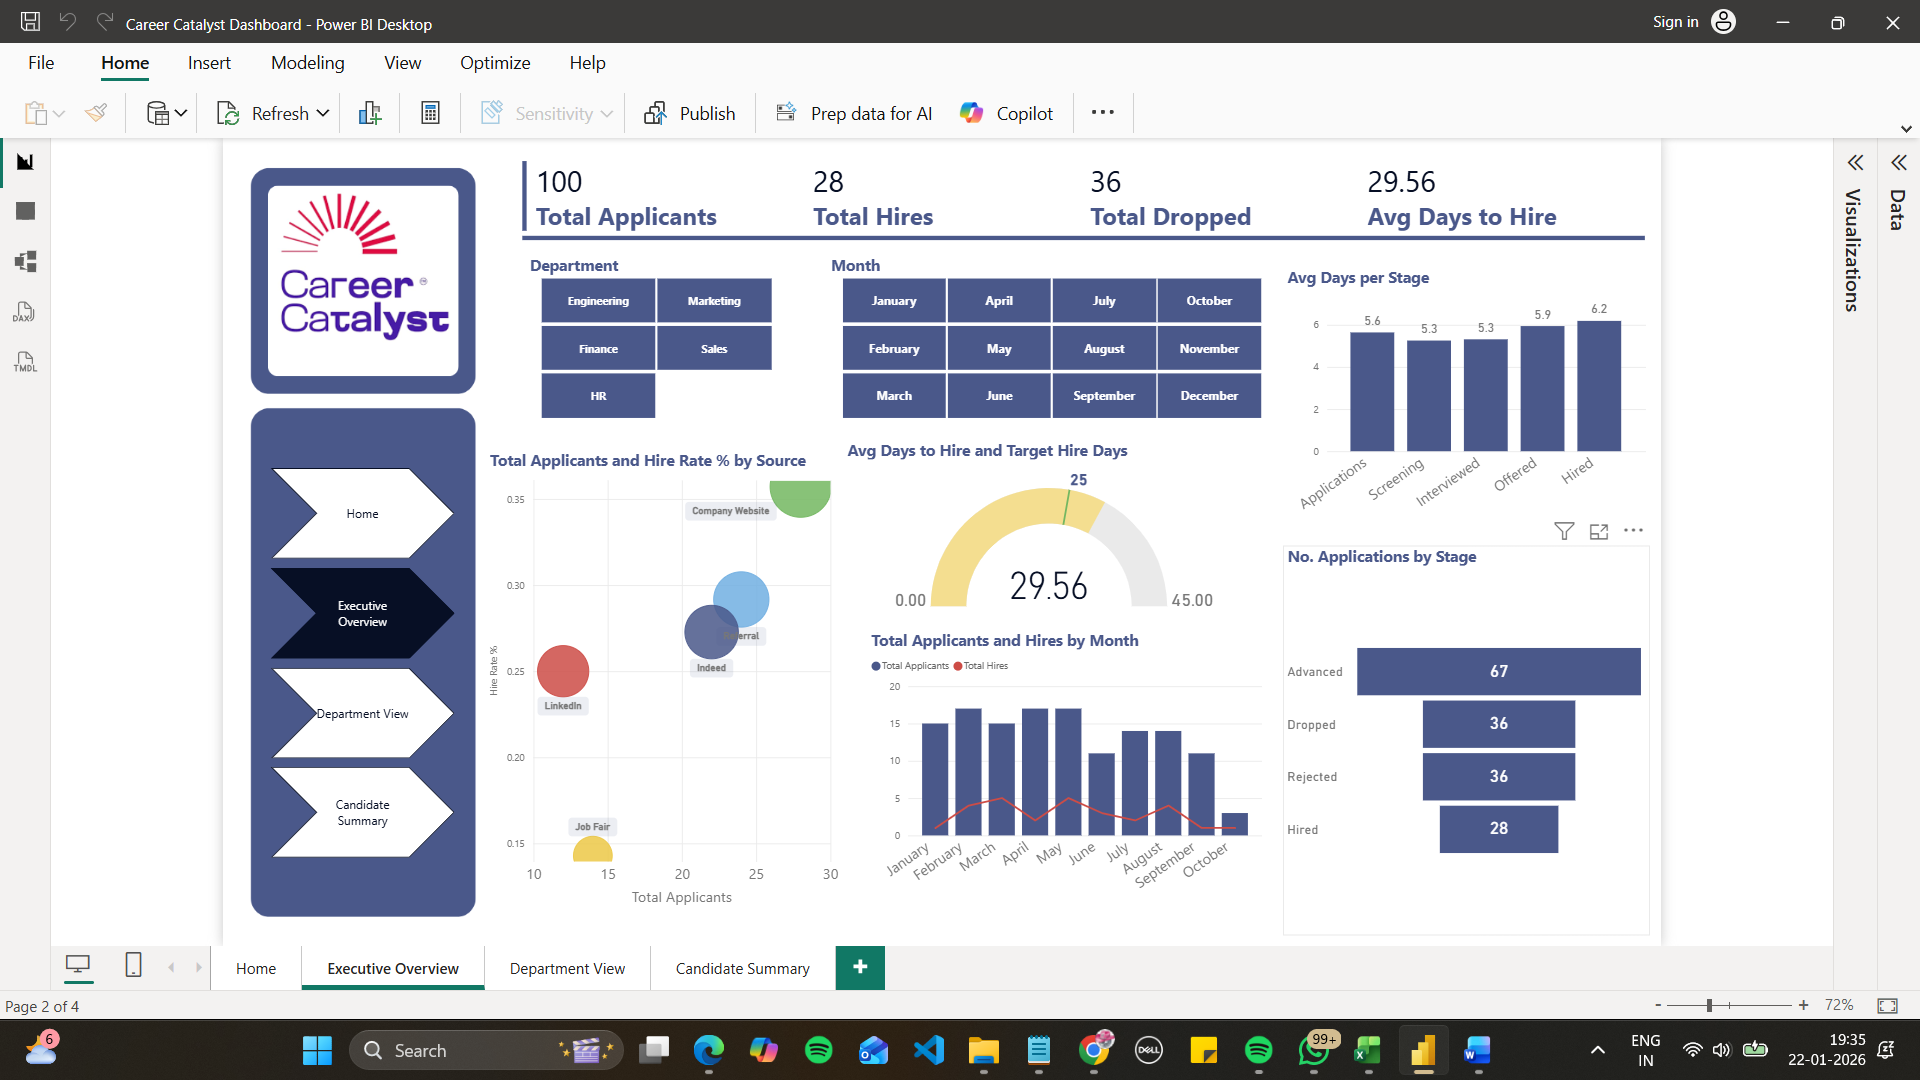

The dashboard page shown, as its layout file describes it:
{"tool":"powerbi","page":{"name":"Executive Overview","canvas":[1600,900],"ordinal":1},"visuals":[{"type":"funnel","title":"No. Applications by Stage","fields":{"Y":["Count(recruitment_funnel_data.ApplicantID)"],"Category":["RecruitmentData.StatusNextStage"]},"box":[1179.3,453.9,408.7,434.3],"z":0},{"type":"multiRowCard","fields":{"Values":["RecruitmentData.Total Applicants","RecruitmentData.Total Hires","RecruitmentData.Total Dropped","RecruitmentData.Avg Days to Hire"]},"box":[328.4,20.9,1259.3,104.4],"z":1000},{"type":"lineClusteredColumnComboChart","title":"Total Applicants and Hires by Month","fields":{"Category":["RecruitmentData.DateOfApplication.Variation.Date Hierarchy.Month"],"Y2":["RecruitmentData.Total Hires"],"Y":["RecruitmentData.Total Applicants"]},"box":[716.3,547.4,444.9,312.2],"z":2000},{"type":"gauge","fields":{"Y":["RecruitmentData.Avg Days to Hire"],"TargetValue":["RecruitmentData.Target Hire Days"]},"box":[690.7,334.8,470.5,196],"z":3000},{"type":"clusteredColumnChart","title":"Avg Days per Stage","fields":{"Category":["RecruitmentData.Stage"],"Y":["RecruitmentData.Avg Days per Stage"]},"box":[1179.3,143.3,408.7,289.5],"z":4000},{"type":"scatterChart","title":"Total Applicants and Hire Rate % by Source","fields":{"X":["RecruitmentData.Total Applicants"],"Y":["RecruitmentData.Hire Rate %"],"Series":["RecruitmentData.Source"],"Size":["RecruitmentData.Hire Rate %"]},"box":[292.6,346.9,398.1,512.7],"z":5000},{"type":"slicer","fields":{"Values":["RecruitmentData.Department"]},"box":[328.8,125.2,306.1,193],"z":6000},{"type":"slicer","fields":{"Values":["RecruitmentData.DateOfApplication.Variation.Date Hierarchy.Month"]},"box":[663.5,125.2,515.8,193],"z":7000},{"type":"pageNavigator","box":[52.8,368,205.1,437.3],"z":8000}]}

Visuals, with their boxes on the page's 1600x900 design canvas (x1, y1, x2, y2). These are canvas units, not pixel positions in the 1920x1080 screenshot, which may show the page scaled, cropped or inside an application window:
"No. Applications by Stage" funnel: 1179:454:1588:888
multiRowCard - RecruitmentData.Total Applicants x RecruitmentData.Total Hires: 328:21:1588:125
"Total Applicants and Hires by Month" lineClusteredColumnComboChart: 716:547:1161:860
gauge - RecruitmentData.Avg Days to Hire x RecruitmentData.Target Hire Days: 691:335:1161:531
"Avg Days per Stage" clusteredColumnChart: 1179:143:1588:433
"Total Applicants and Hire Rate % by Source" scatterChart: 293:347:691:860
slicer - RecruitmentData.Department: 329:125:635:318
slicer - RecruitmentData.DateOfApplication.Variation.Date Hierarchy.Month: 664:125:1179:318
pageNavigator: 53:368:258:805
